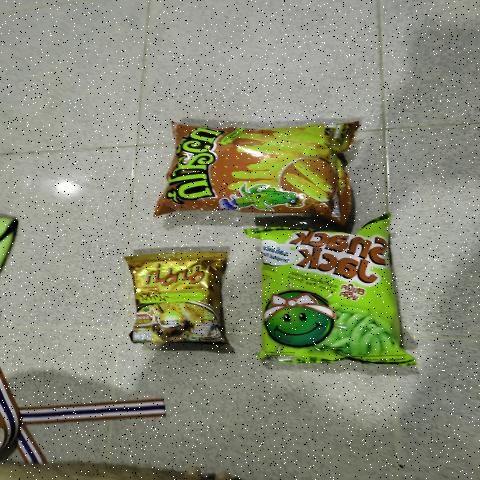mama: (139, 253, 214, 341)
snack_jack: (256, 230, 375, 363)
twisco: (166, 123, 329, 210)
